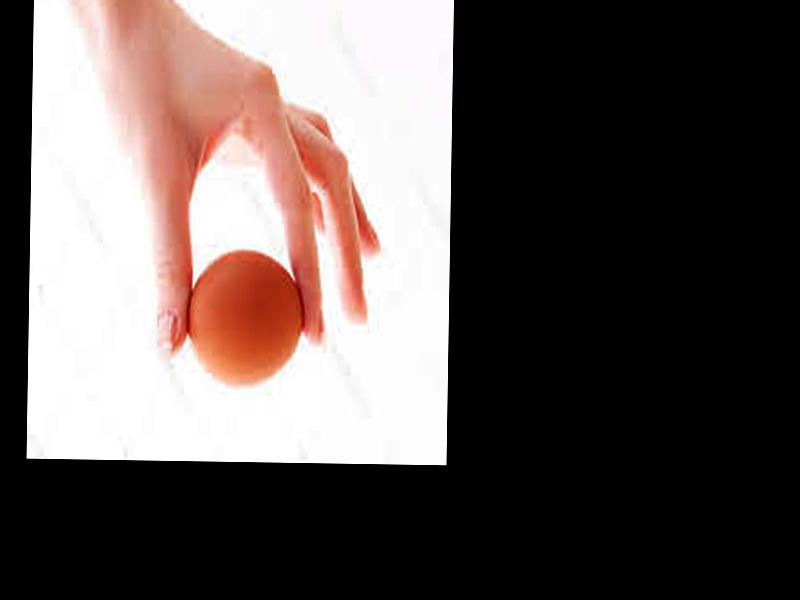Eggs: (185, 252, 305, 385)
